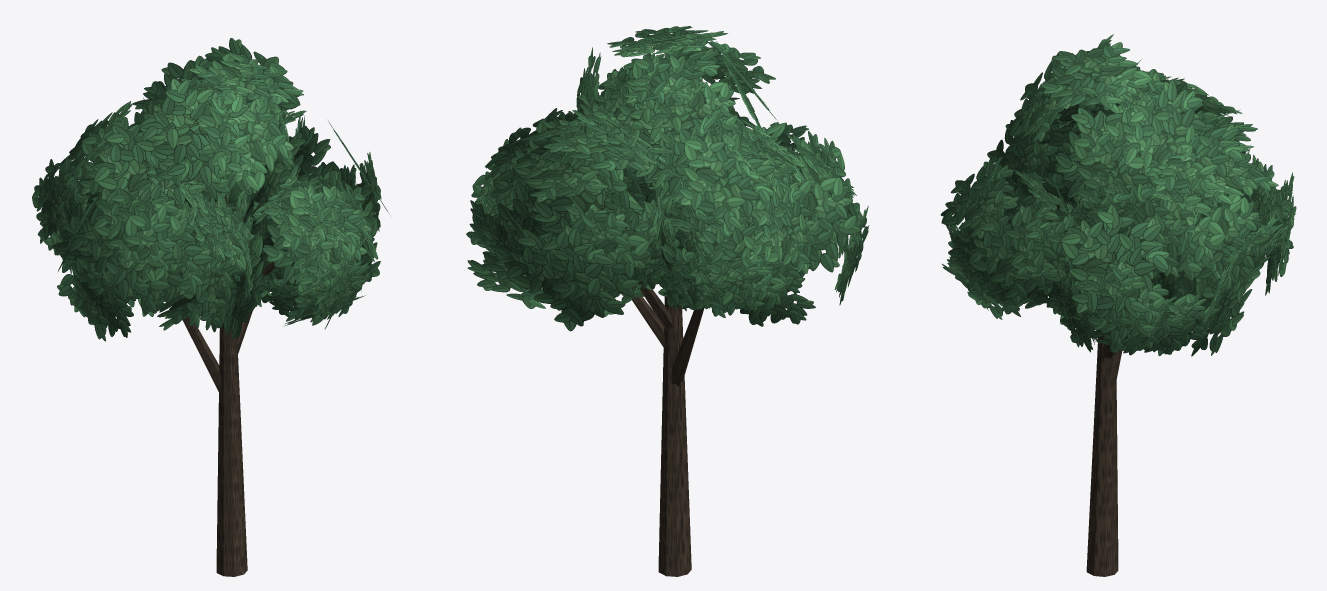
Rendered from carpino_1.glb.
The picture shows the model from 3 angles, left to right: view 1: azimuth 30°, elevation 25°; view 2: azimuth 150°, elevation 25°; view 3: azimuth 270°, elevation 25°; orthographic projection. The views are drawn at different scales.
Visible parts, largest first — view 1: carpino_1; view 2: carpino_1; view 3: carpino_1.
Part boxes in pixels (box(x1,y1,x2,y2)): carpino_1: box(32, 38, 388, 576); carpino_1: box(466, 26, 869, 576); carpino_1: box(940, 34, 1296, 576).
Size of the model in its own units: 7.34 by 10.26 by 6.76.
2 materials, 2 textured.
